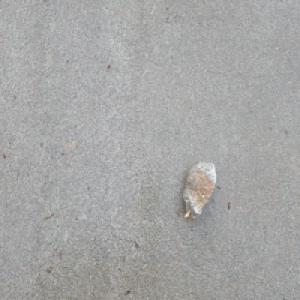Rock: (180, 160, 215, 222)
